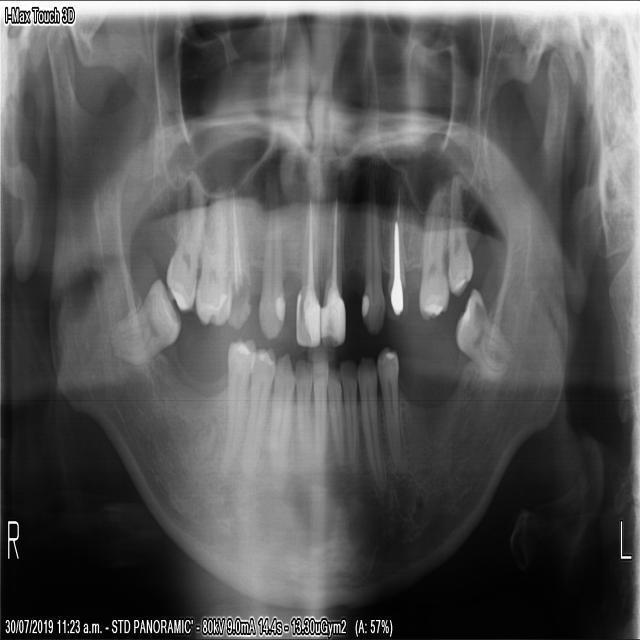LCD: (352, 350, 384, 495)
LCU: (357, 168, 385, 338)
LID: (336, 352, 355, 476), (322, 364, 341, 475)
LIU: (317, 165, 345, 350)
LMD: (451, 281, 511, 383)
LMU: (414, 175, 448, 322), (443, 166, 473, 299)
LPMD: (373, 339, 401, 484)
LPMU: (381, 167, 407, 322)
RCD: (266, 345, 294, 491)
RCU: (254, 160, 286, 337)
RID: (292, 350, 310, 480), (309, 350, 326, 481)
RIU: (293, 158, 320, 347)
RMD: (108, 274, 181, 365)
RMU: (192, 167, 231, 333), (161, 172, 205, 315)
RPMD: (214, 333, 256, 492), (236, 342, 275, 481)
RPMU: (222, 183, 250, 331)
